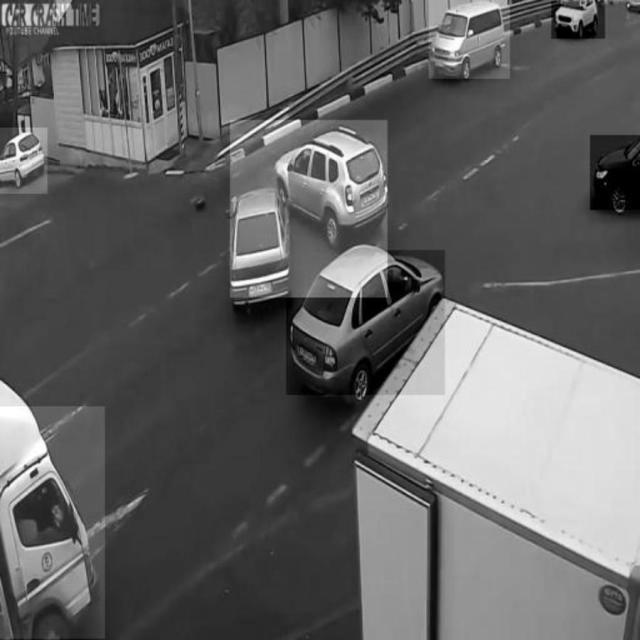accident: (229, 121, 387, 298)
vehicle: (0, 407, 104, 639), (286, 251, 444, 395), (429, 0, 510, 78), (590, 135, 640, 211), (0, 128, 47, 194), (551, 0, 604, 38)
